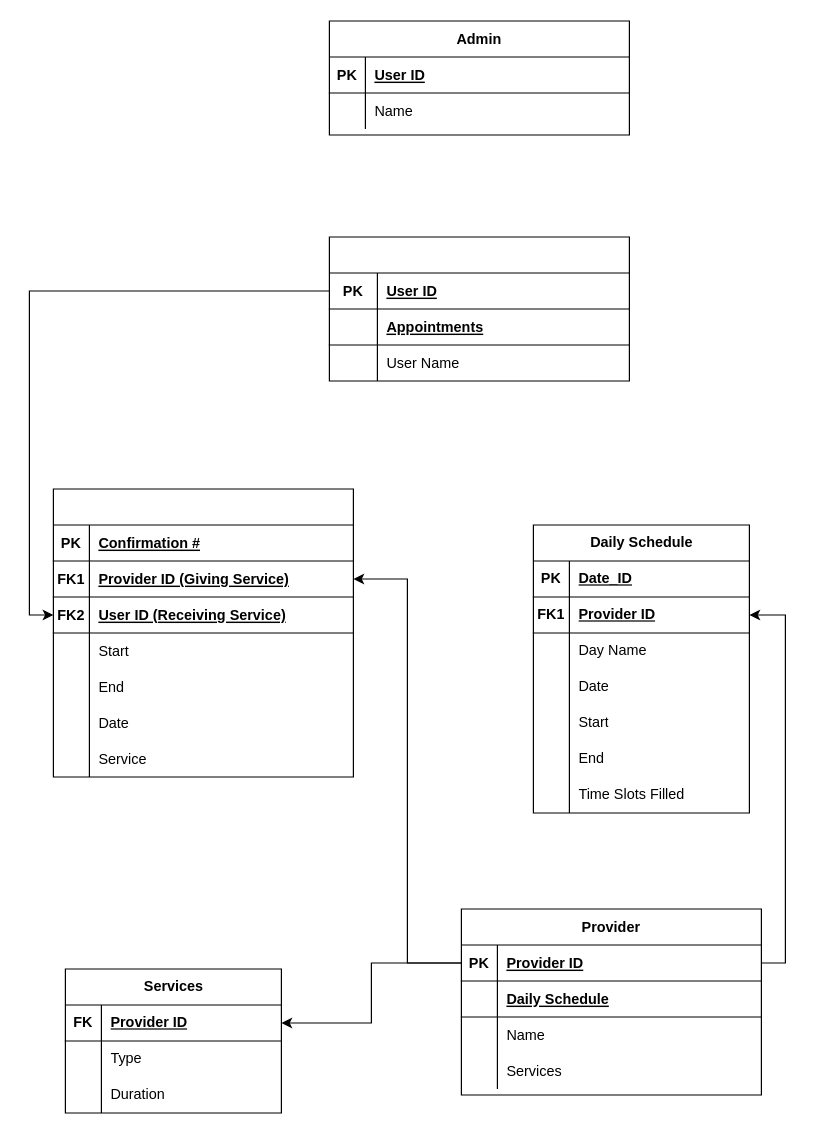
The diagram is 816 pixels wide and 1134 high, and some of its shapes have lost their labels. Here are the shapes that lost their labels. From the top down, the box of each, then its label:
(328, 236, 629, 381): Users
(52, 488, 353, 777): Appointment
